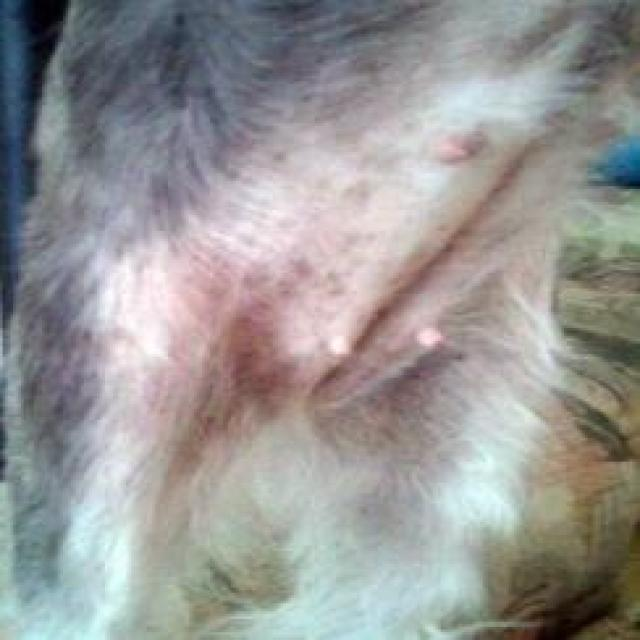fungal infection: (154, 246, 282, 434), (248, 182, 381, 346), (319, 374, 441, 441)
